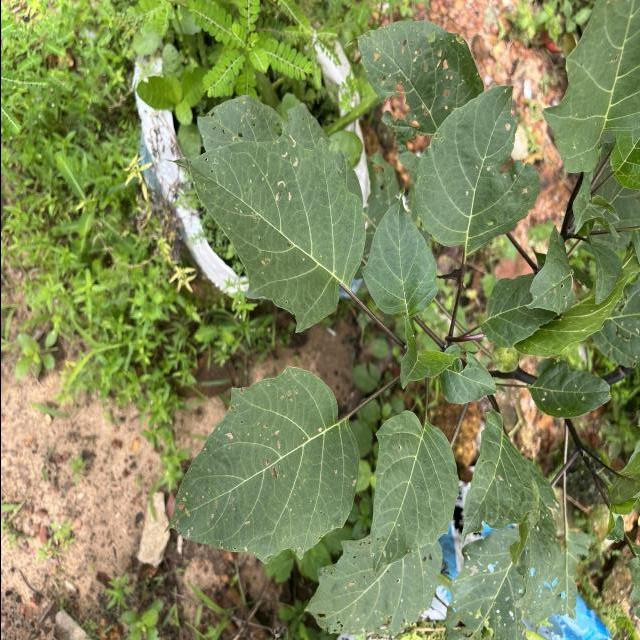Datura metal linn: (159, 125, 368, 338), (160, 363, 364, 567), (411, 82, 542, 258), (368, 408, 460, 584), (356, 187, 439, 320)
